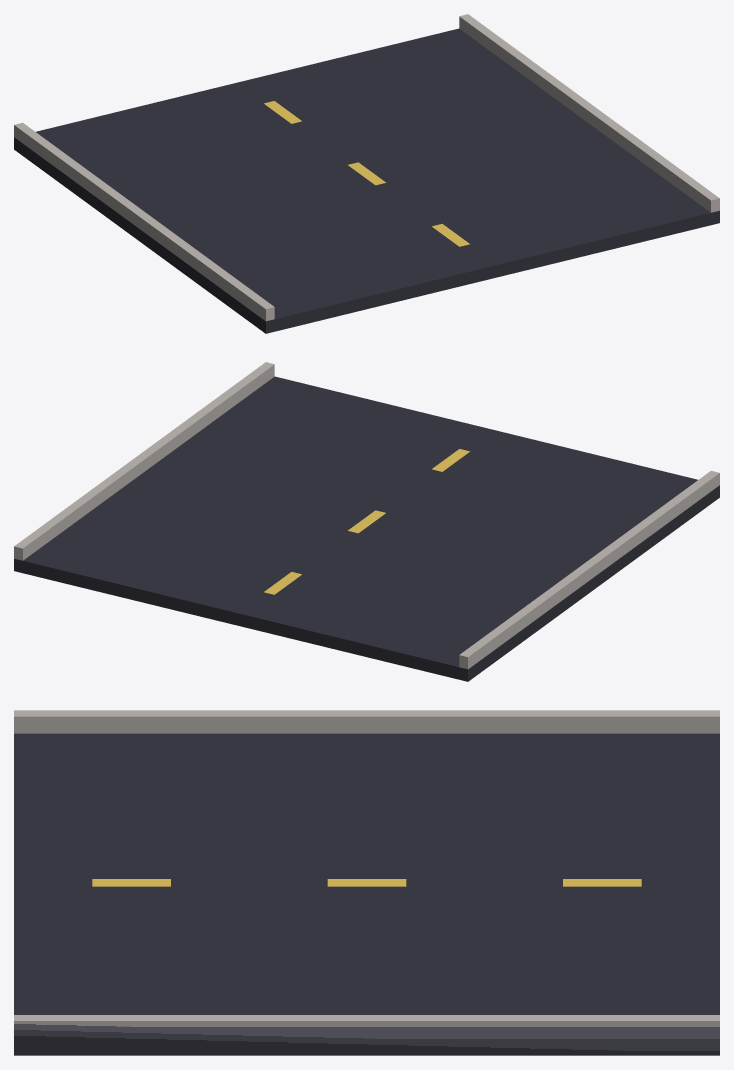
Rendered from road.fbx.
The picture shows the model from 3 angles, top to bottom: view 1: azimuth 30°, elevation 25°; view 2: azimuth 150°, elevation 25°; view 3: azimuth 270°, elevation 25°; orthographic projection. The views are drawn at different scales.
Parts seen in each view (by area): view 1: road; view 2: road; view 3: road.
Part boxes in pixels (bbox=[...]): road: bbox=[14, 14, 719, 333]; road: bbox=[14, 362, 719, 681]; road: bbox=[14, 710, 719, 1055].
Size of the model in its own units: 762 by 39.57 by 732.
